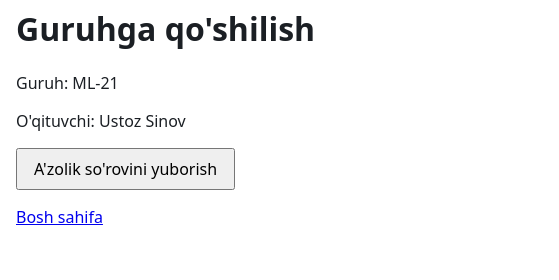
/join/<token> (SEC-03) › server rad etsa (409) aniq xabar; bekor token (404)
Click the button "A'zolik so'rovini yuborish": (126, 169) [16,148,235,190]
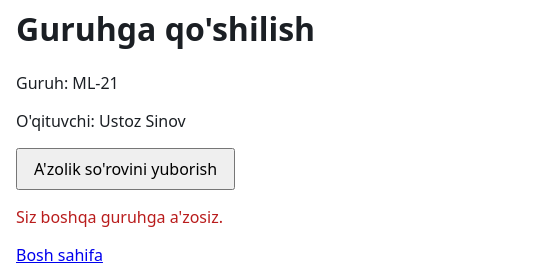
Now the message reads "Siz boshqa guruhga a'zosiz.", box [16,206,223,228]
Click the button "A'zolik so'rovini yuborish": (126, 169) [16,148,235,190]
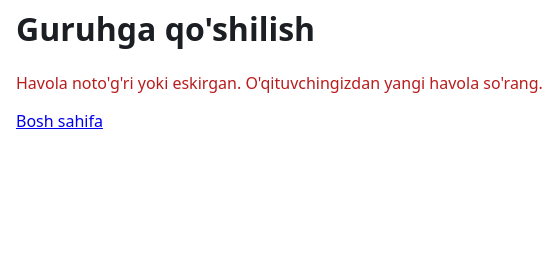
Now the text "Havola noto'g'ri yoki eskirgan. O'qituvchingizdan yangi havola so'rang." is shown, box [16,72,543,94]
